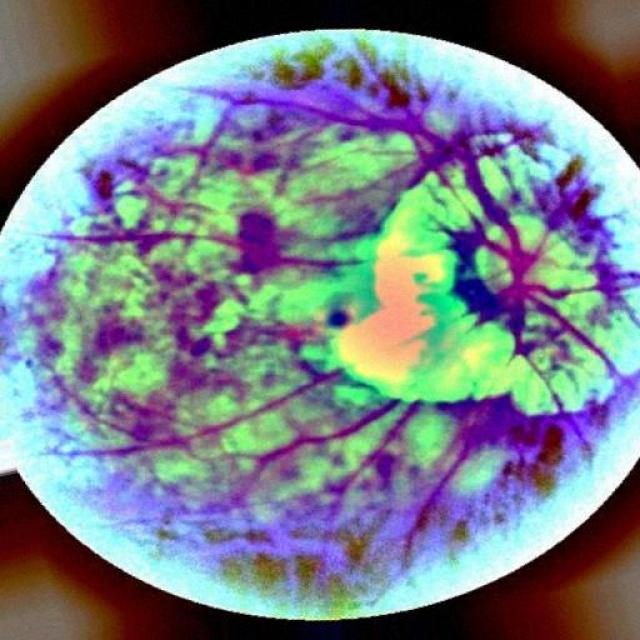Nerves: (160, 81, 639, 560), (85, 304, 366, 456), (210, 209, 355, 288)
Optic Disk: (281, 132, 639, 415)
